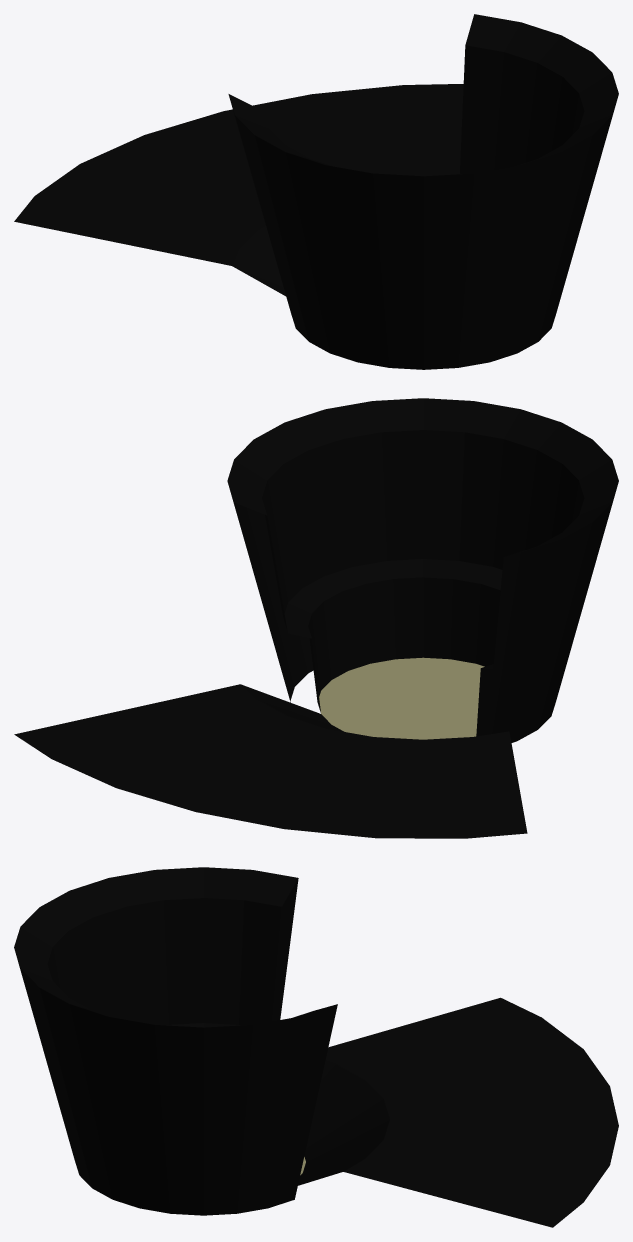
The model's file is Stage3.fbx.
3 renders of one model, top to bottom at view 1: azimuth 30°, elevation 25°; view 2: azimuth 150°, elevation 25°; view 3: azimuth 270°, elevation 25°, orthographic. The views are drawn at different scales.
Parts seen in each view (by area): view 1: pDisc2; view 2: pDisc2; view 3: pDisc2.
Part boxes in pixels (left/top/right/bottom): pDisc2: left=14, top=14, right=618, bottom=369; pDisc2: left=14, top=398, right=618, bottom=838; pDisc2: left=14, top=867, right=618, bottom=1227.
Size of the model in its own units: 197 by 85.5 by 218.
